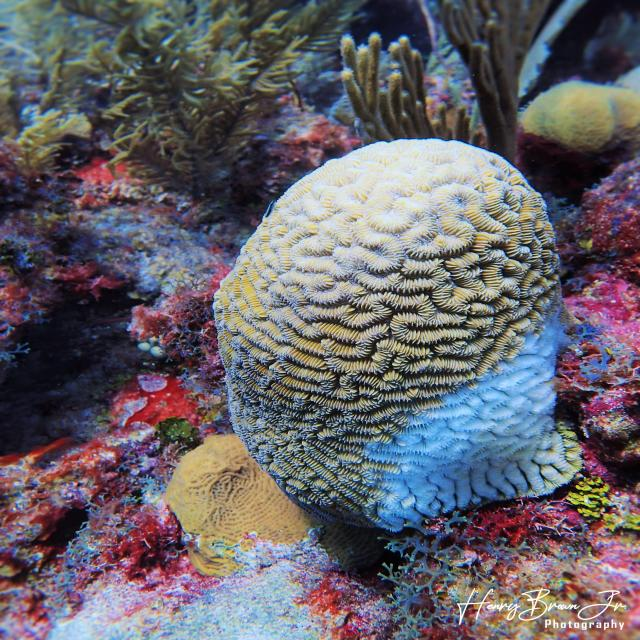Coral: (213, 137, 584, 529), (164, 432, 385, 577), (441, 0, 551, 168), (340, 30, 472, 144), (519, 79, 640, 156)
